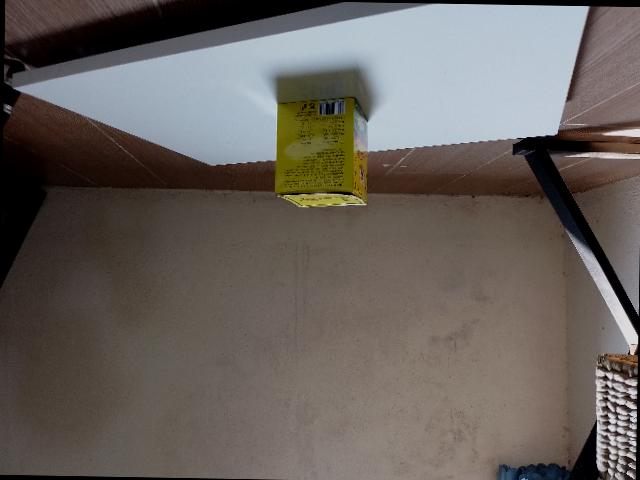luong_kho: (273, 95, 368, 207)
